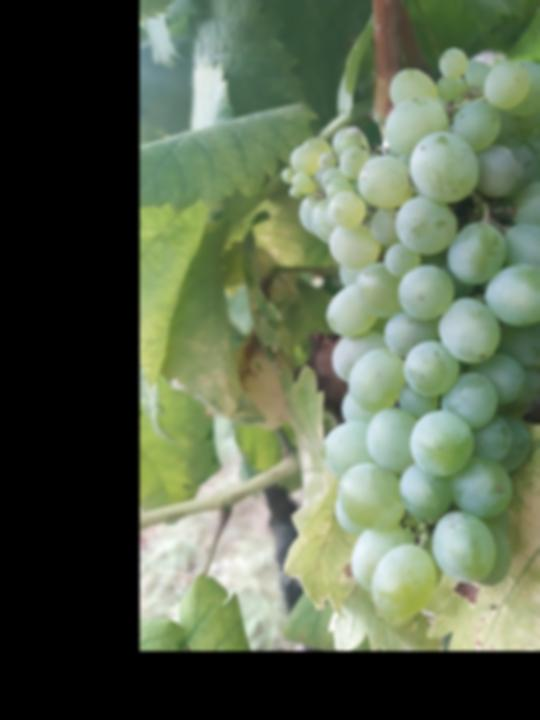grape: (279, 46, 540, 621)
